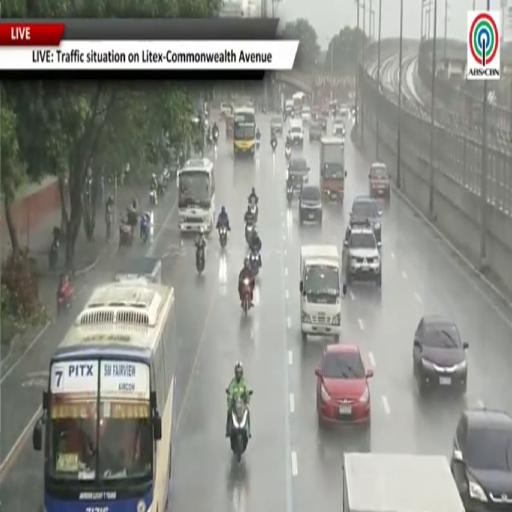bus: (33, 281, 178, 511), (177, 158, 215, 232), (234, 107, 255, 156), (292, 92, 305, 116)
car: (451, 408, 511, 511), (315, 344, 373, 426), (413, 315, 468, 393), (342, 223, 381, 287), (350, 196, 381, 247), (299, 185, 322, 225), (287, 153, 309, 190), (369, 163, 390, 200), (288, 153, 309, 177), (289, 119, 303, 147), (309, 121, 322, 141), (333, 118, 345, 138), (271, 117, 283, 134), (220, 103, 233, 118), (318, 114, 327, 132), (301, 106, 311, 122), (338, 105, 349, 118)
motorcycle: (230, 397, 248, 462), (57, 280, 74, 313), (241, 279, 251, 315), (120, 223, 134, 247), (49, 239, 59, 270), (249, 250, 259, 277), (196, 247, 205, 275), (218, 226, 228, 249), (141, 218, 149, 244), (249, 199, 258, 222), (245, 224, 254, 245), (149, 188, 158, 207), (212, 131, 218, 154), (287, 185, 293, 204), (206, 133, 213, 148), (285, 147, 291, 161), (212, 130, 218, 143), (271, 140, 276, 153), (255, 139, 260, 150), (262, 105, 266, 114)
truck: (343, 453, 464, 511), (300, 245, 341, 342), (320, 137, 347, 202), (114, 256, 161, 283)
